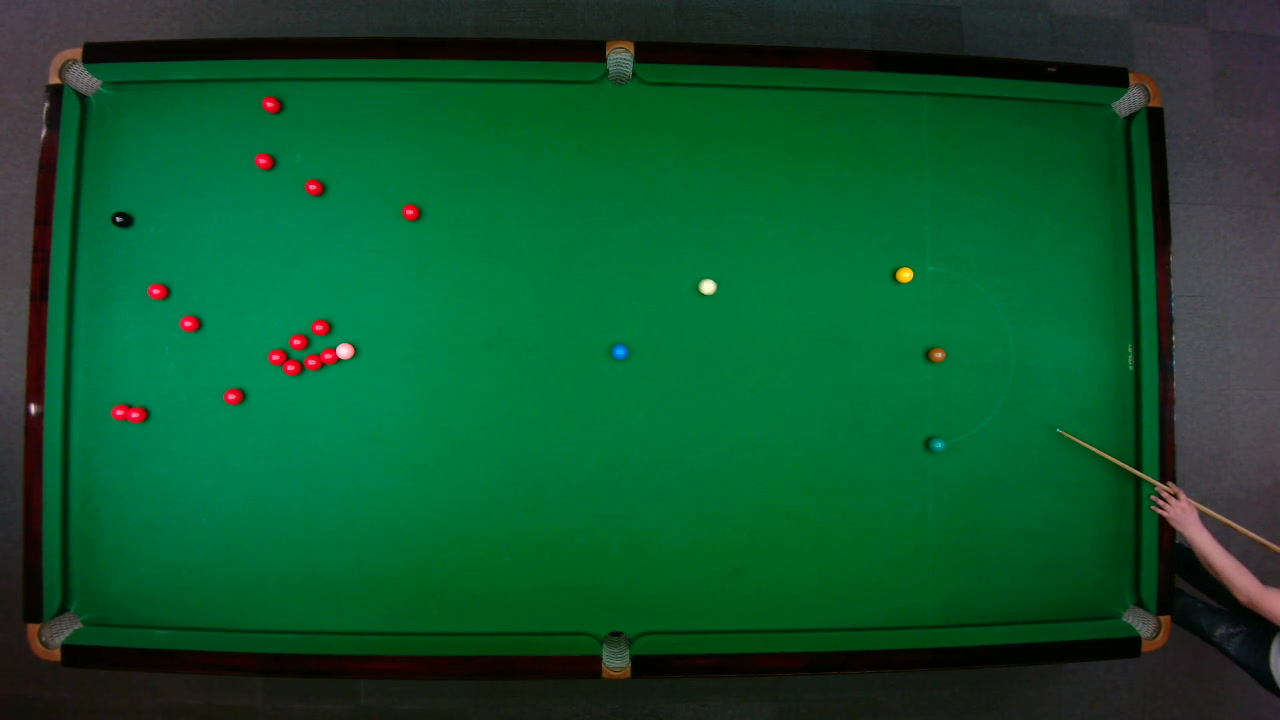bag: (25, 609, 83, 661), (45, 46, 102, 97), (1119, 603, 1172, 652), (1108, 71, 1161, 118), (600, 629, 629, 679), (605, 38, 633, 85)
black: (109, 210, 131, 228)
blue: (610, 342, 628, 360)
brown: (926, 346, 946, 362)
cue: (1055, 426, 1280, 555)
green: (926, 434, 946, 452)
pink: (334, 341, 355, 360)
red: (123, 404, 148, 423), (145, 281, 169, 300), (109, 402, 132, 421), (222, 386, 244, 405), (177, 314, 200, 332), (303, 177, 324, 196), (302, 352, 324, 370), (318, 346, 338, 365), (400, 202, 420, 221), (253, 152, 274, 170), (309, 317, 330, 335), (260, 95, 281, 113), (287, 332, 308, 350), (281, 358, 302, 376), (266, 348, 287, 365)
white: (696, 277, 717, 295)
yellow: (893, 265, 914, 283)
zone: (926, 266, 1013, 444)
